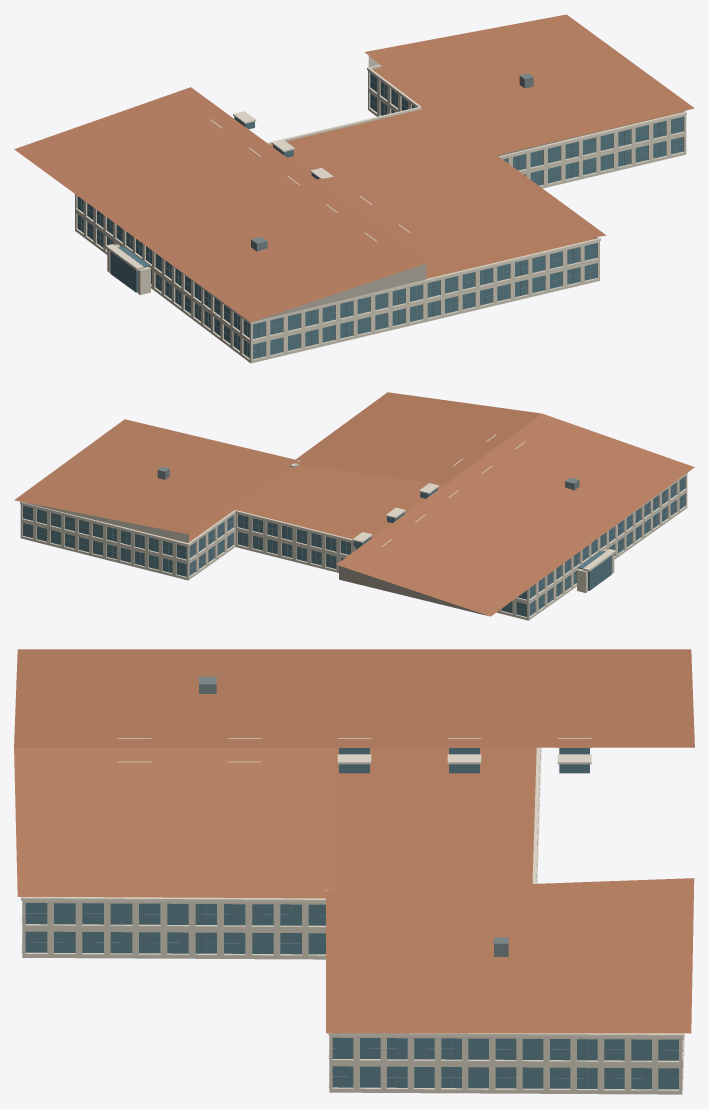
File: canteen1.glb
The picture shows the model from 3 angles, top to bottom: view 1: azimuth 30°, elevation 25°; view 2: azimuth 150°, elevation 25°; view 3: azimuth 270°, elevation 25°; orthographic projection. The views are drawn at different scales.
Visible parts, largest first — view 1: roof, wall, glass, trim, metal; view 2: roof, wall, glass, trim, metal; view 3: roof, glass, wall, trim, metal.
Boxes of the visible parts, x1,y1,x2,y2 form: roof: (14,14,694,322); wall: (75,52,686,363); glass: (77,73,683,359); trim: (76,64,686,360); metal: (77,73,683,357); roof: (14,392,694,616); wall: (20,460,687,620); glass: (23,476,685,616); trim: (20,434,687,618); metal: (23,467,685,615); roof: (14,649,694,1033); glass: (25,748,678,1089); wall: (22,751,684,1094); trim: (21,738,684,1091); metal: (25,676,678,1088).
Bounding box in the file's own units: 126 × 13.5 × 92.8.
